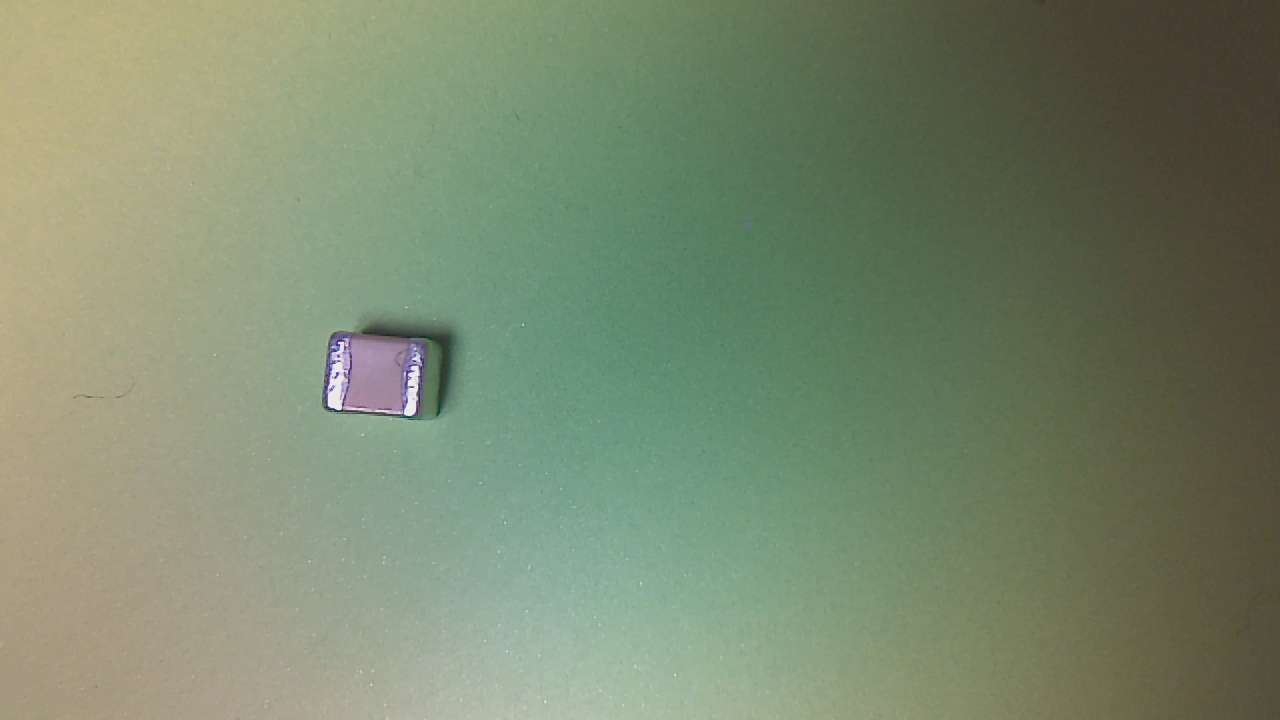Condensator: (325, 333, 436, 424)
